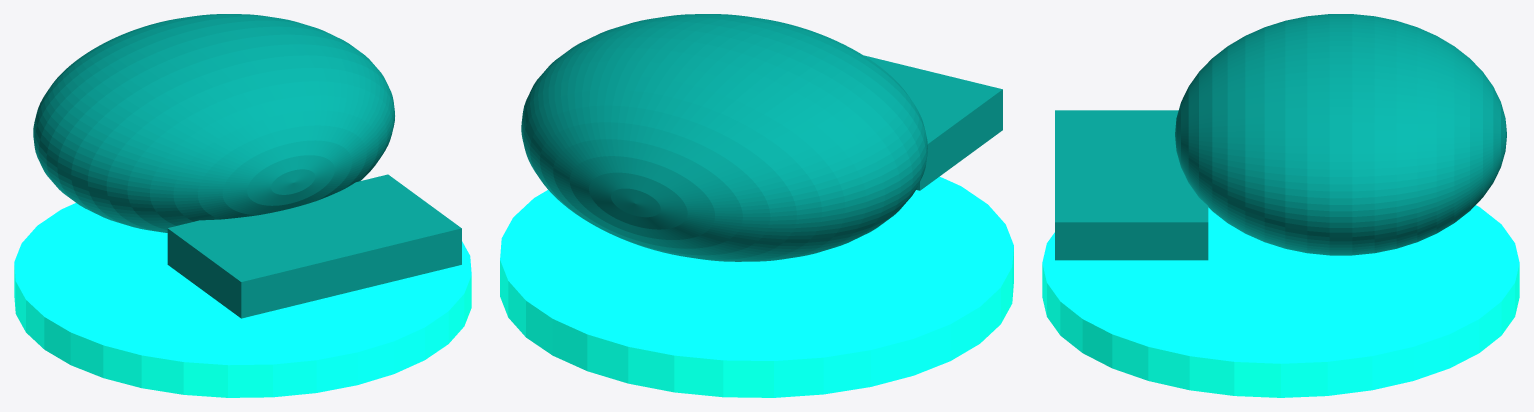
Rendered from fashion_cap.dae.
The picture shows the model from 3 angles, left to right: view 1: azimuth 30°, elevation 25°; view 2: azimuth 150°, elevation 25°; view 3: azimuth 270°, elevation 25°; orthographic projection. The views are drawn at different scales.
Parts seen in each view (by area): view 1: 06_08_Popular_Fashion_Cap_part_01, 06_08_Popular_Fashion_Cap_ROOT_base, 06_08_Popular_Fashion_Cap_part_02; view 2: 06_08_Popular_Fashion_Cap_part_01, 06_08_Popular_Fashion_Cap_ROOT_base, 06_08_Popular_Fashion_Cap_part_02; view 3: 06_08_Popular_Fashion_Cap_part_01, 06_08_Popular_Fashion_Cap_ROOT_base, 06_08_Popular_Fashion_Cap_part_02.
Boxes of the visible parts, x1,y1,x2,y2 form: 06_08_Popular_Fashion_Cap_part_01: [33, 14, 394, 232]; 06_08_Popular_Fashion_Cap_ROOT_base: [14, 203, 471, 397]; 06_08_Popular_Fashion_Cap_part_02: [167, 174, 461, 318]; 06_08_Popular_Fashion_Cap_part_01: [521, 14, 927, 261]; 06_08_Popular_Fashion_Cap_ROOT_base: [500, 176, 1013, 397]; 06_08_Popular_Fashion_Cap_part_02: [864, 55, 1002, 190]; 06_08_Popular_Fashion_Cap_part_01: [1175, 14, 1506, 255]; 06_08_Popular_Fashion_Cap_ROOT_base: [1042, 205, 1519, 397]; 06_08_Popular_Fashion_Cap_part_02: [1055, 110, 1208, 260].
Size of the model in its own units: 0.76 by 0.4404 by 0.76.
